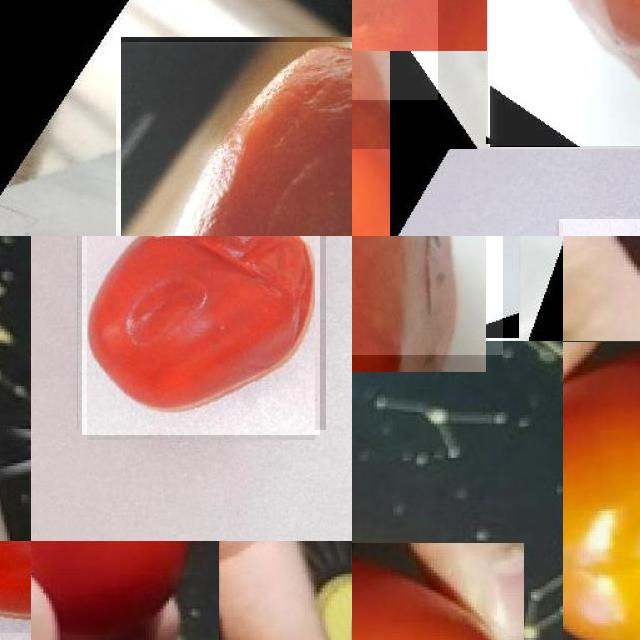0: (31, 541, 220, 640)
1: (82, 236, 320, 435)
Fresh Tomato: (352, 543, 524, 640)
Rotten Tomato: (115, 41, 352, 236), (563, 342, 640, 640), (487, 0, 640, 145), (352, 0, 438, 100)
